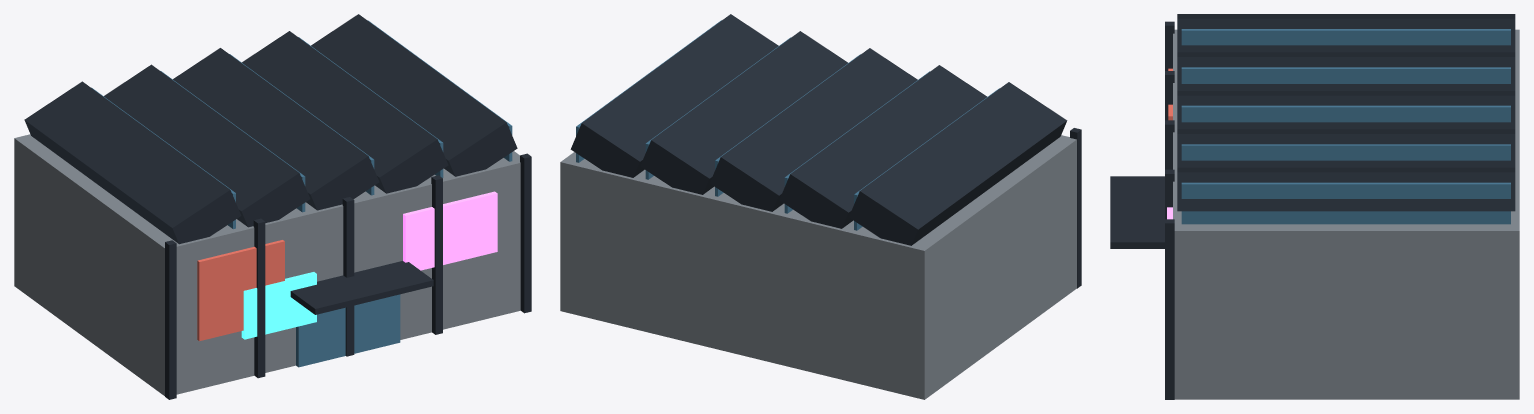
The model's file is building_wynwood.glb.
3 renders of one model, left to right at view 1: azimuth 30°, elevation 25°; view 2: azimuth 150°, elevation 25°; view 3: azimuth 270°, elevation 25°, orthographic. The views are drawn at different scales.
Visible parts, largest first — view 1: building_wynwood; view 2: building_wynwood; view 3: building_wynwood.
Part boxes in pixels (<box>): building_wynwood: <box>14,14,531,399</box>; building_wynwood: <box>560,14,1081,399</box>; building_wynwood: <box>1110,14,1519,399</box>.
Bounding box in the file's own units: 22.05 × 11.04 × 18.9.
